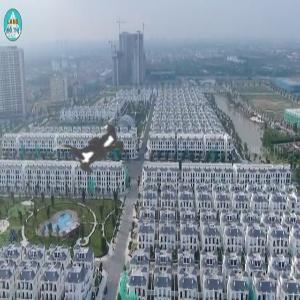drone: (38, 85, 167, 214)
